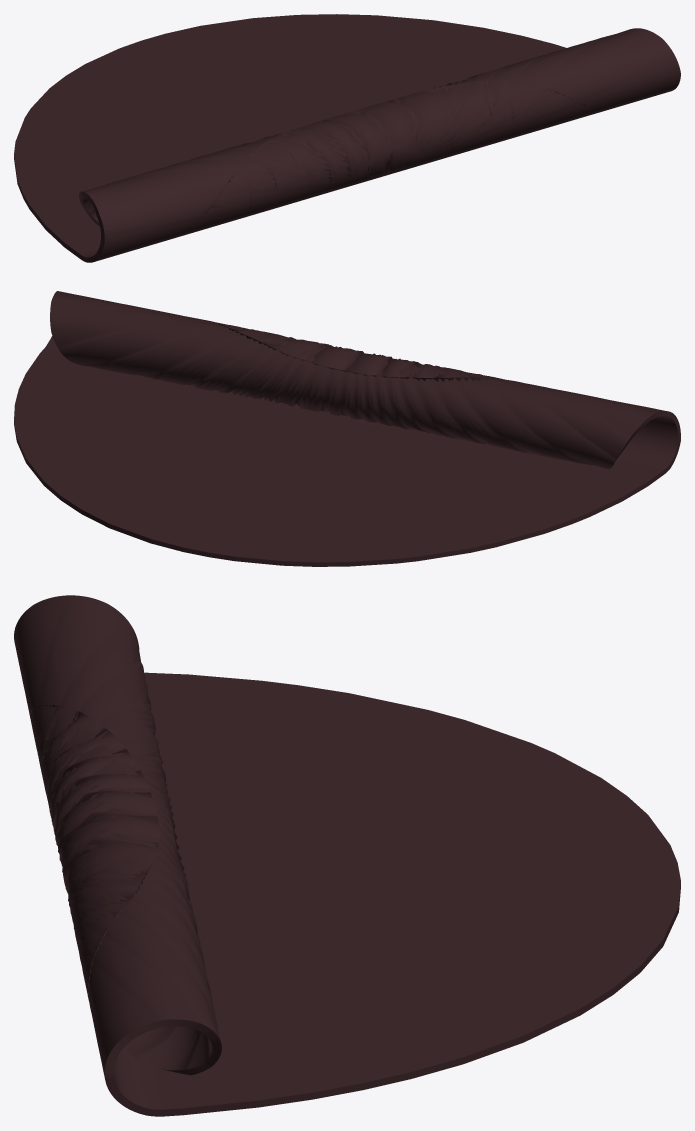
File: alfombra_enrollada.FBX
The picture shows the model from 3 angles, top to bottom: view 1: azimuth 30°, elevation 25°; view 2: azimuth 150°, elevation 25°; view 3: azimuth 270°, elevation 25°; orthographic projection. The views are drawn at different scales.
Parts seen in each view (by area): view 1: alfombra_enrollada; view 2: alfombra_enrollada; view 3: alfombra_enrollada.
Boxes of the visible parts, left/top/right/bottom form: alfombra_enrollada: left=14, top=14, right=680, bottom=262; alfombra_enrollada: left=14, top=291, right=680, bottom=566; alfombra_enrollada: left=14, top=595, right=680, bottom=1116.
Bounding box in the file's own units: 53.37 × 5.08 × 34.16.
